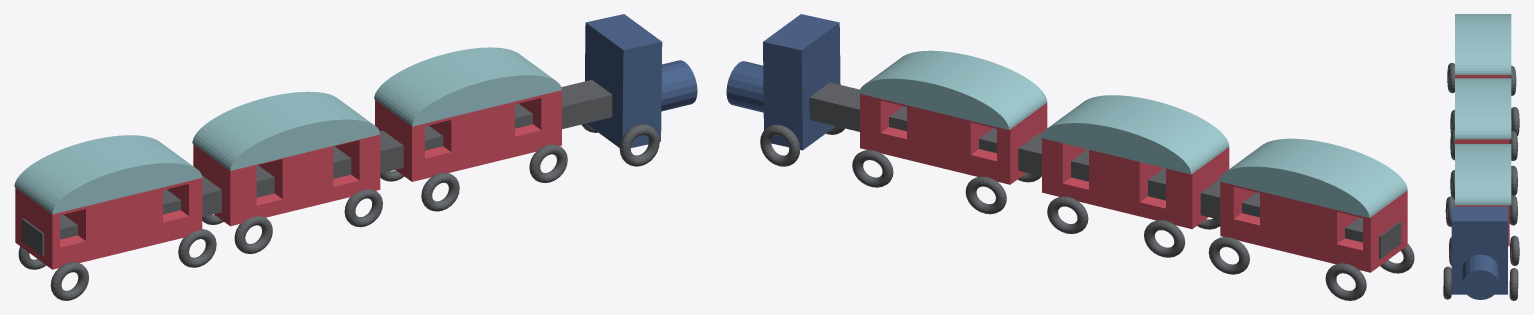
Rendered from 3D train.glb.
3 views of the same model, side by side, from view 1: azimuth 30°, elevation 25°; view 2: azimuth 150°, elevation 25°; view 3: azimuth 270°, elevation 25° (orthographic). The views are drawn at different scales.
Parts seen in each view (by area): view 1: Mesh_Mesh_head_geo.001_lambert2SG.001; view 2: Mesh_Mesh_head_geo.001_lambert2SG.001; view 3: Mesh_Mesh_head_geo.001_lambert2SG.001.
Boxes of the visible parts, x1,y1,x2,y2 form: Mesh_Mesh_head_geo.001_lambert2SG.001: [14, 14, 697, 300]; Mesh_Mesh_head_geo.001_lambert2SG.001: [726, 14, 1414, 300]; Mesh_Mesh_head_geo.001_lambert2SG.001: [1443, 14, 1519, 300].
Size of the model in its own units: 338 by 58 by 46.
